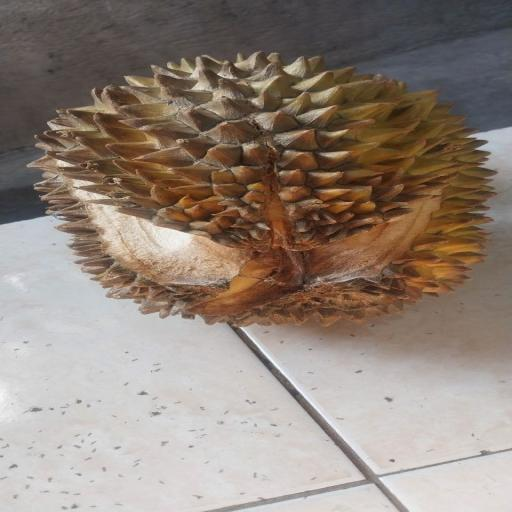rot: (7, 36, 500, 342)
